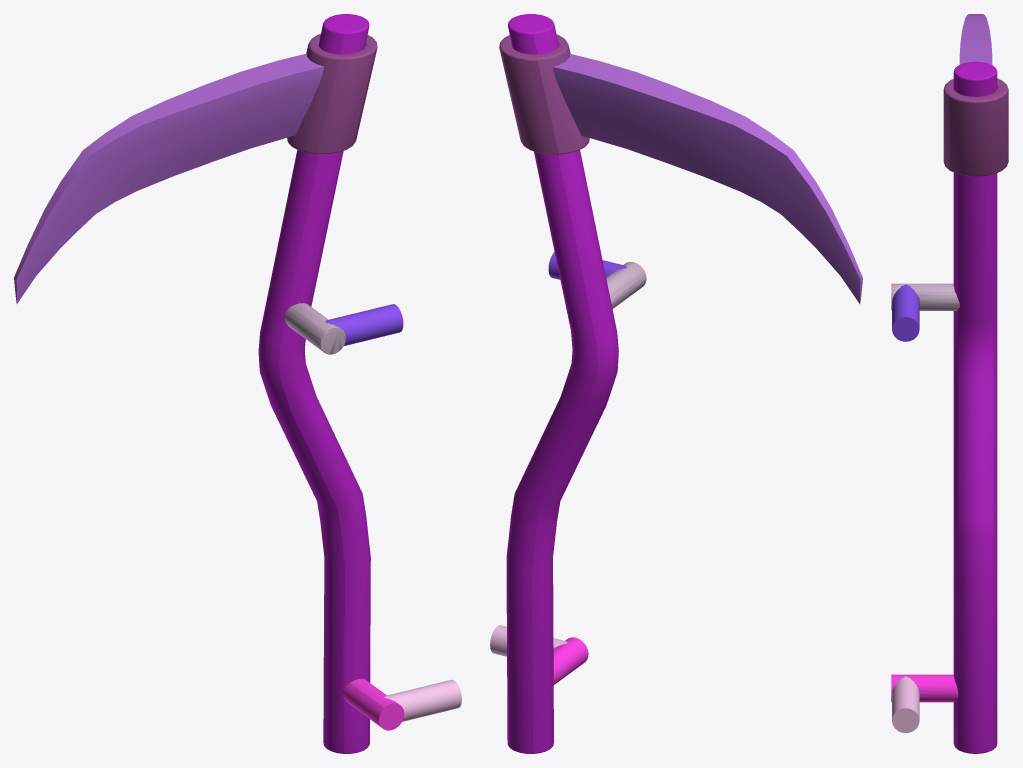
3 renders of one model, left to right at view 1: azimuth 30°, elevation 25°; view 2: azimuth 150°, elevation 25°; view 3: azimuth 270°, elevation 25°, orthographic. The views are drawn at different scales.
Parts seen in each view (by area): view 1: split_parent_2, pCube1_lambert2_0, split_parent_1, pCylinder5_lambert3_0, pCylinder6_lambert3_0, split_parent_4, pCylinder3_lambert3_0; view 2: split_parent_2, pCube1_lambert2_0, split_parent_1, pCylinder3_lambert3_0, split_parent_4; view 3: split_parent_2, split_parent_1, pCube1_lambert2_0, pCylinder5_lambert3_0, pCylinder6_lambert3_0, split_parent_4, pCylinder3_lambert3_0.
Boxes of the visible parts, box(x1,y1,x2,y2) form: split_parent_2: box(258, 14, 370, 753); pCube1_lambert2_0: box(14, 53, 324, 303); split_parent_1: box(287, 34, 377, 154); pCylinder5_lambert3_0: box(325, 304, 403, 345); pCylinder6_lambert3_0: box(384, 679, 461, 721); split_parent_4: box(342, 678, 404, 730); pCylinder3_lambert3_0: box(284, 303, 345, 354); split_parent_2: box(506, 14, 618, 753); pCube1_lambert2_0: box(552, 54, 862, 303); split_parent_1: box(499, 34, 589, 154); pCylinder3_lambert3_0: box(606, 262, 646, 308); split_parent_4: box(553, 637, 588, 684); split_parent_2: box(953, 61, 997, 753); split_parent_1: box(943, 78, 1008, 176); pCube1_lambert2_0: box(959, 14, 992, 64); pCylinder5_lambert3_0: box(892, 284, 919, 341); pCylinder6_lambert3_0: box(892, 676, 919, 733); split_parent_4: box(891, 674, 958, 702); pCylinder3_lambert3_0: box(891, 283, 959, 310).
Bounding box in the file's own units: 0.5825 × 1 × 0.1575.
